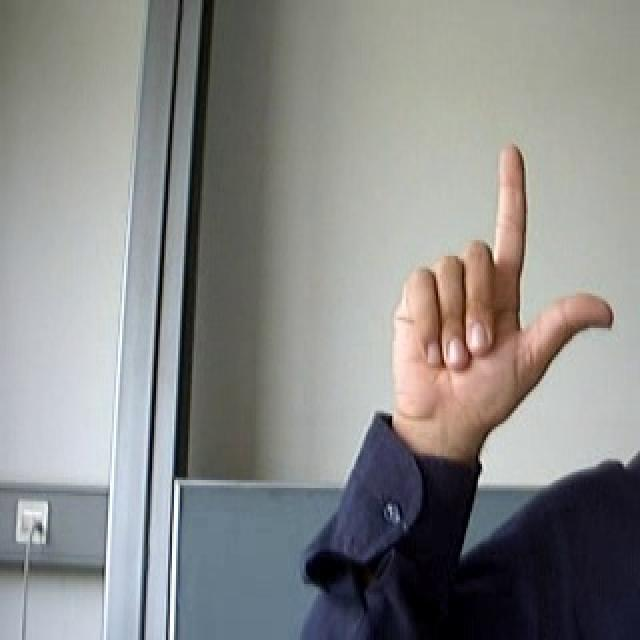L: (374, 123, 626, 448)
